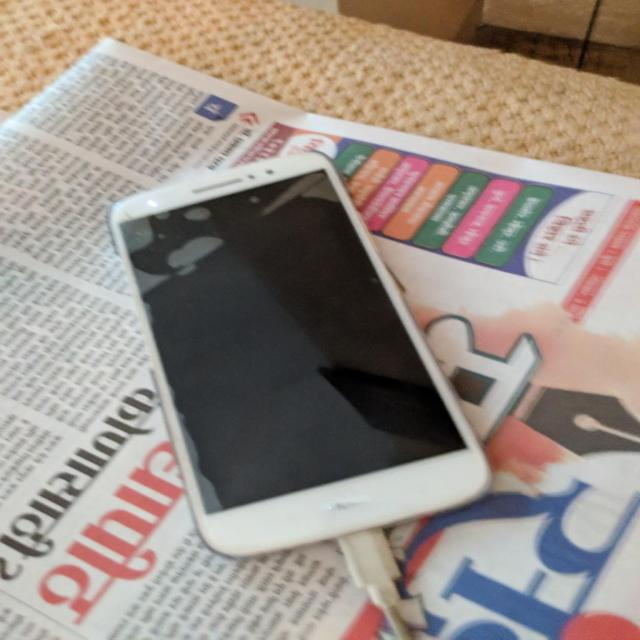Phone: (105, 138, 502, 569)
